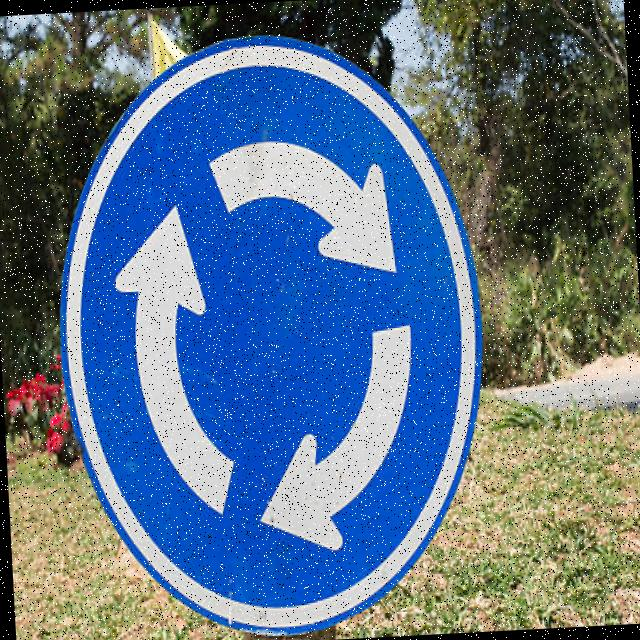round_about: (45, 19, 495, 640)
